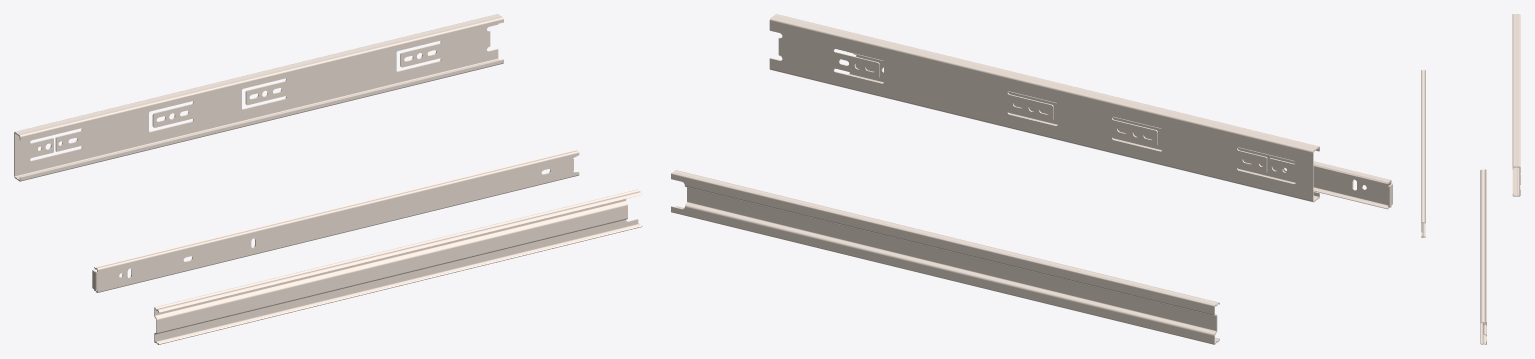
File: slide.obj
3 views of the same model, side by side, from view 1: azimuth 30°, elevation 25°; view 2: azimuth 150°, elevation 25°; view 3: azimuth 270°, elevation 25° (orthographic). The views are drawn at different scales.
Visible parts, largest first — view 1: Solid1, Solid1:1, Solid1:2; view 2: Solid1, Solid1:1, Solid1:2; view 3: Solid1, Solid1:1, Solid1:2.
Part boxes in pixels (left/top/right/bottom): Solid1: left=14, top=14, right=503, bottom=181; Solid1:1: left=154, top=189, right=642, bottom=344; Solid1:2: left=92, top=149, right=579, bottom=292; Solid1: left=769, top=14, right=1319, bottom=202; Solid1:1: left=671, top=170, right=1219, bottom=344; Solid1:2: left=846, top=51, right=1392, bottom=209; Solid1: left=1512, top=14, right=1520, bottom=196; Solid1:1: left=1480, top=169, right=1486, bottom=344; Solid1:2: left=1421, top=70, right=1425, bottom=237.
Size of the model in its own units: 24.33 by 8.55 by 5.42.
